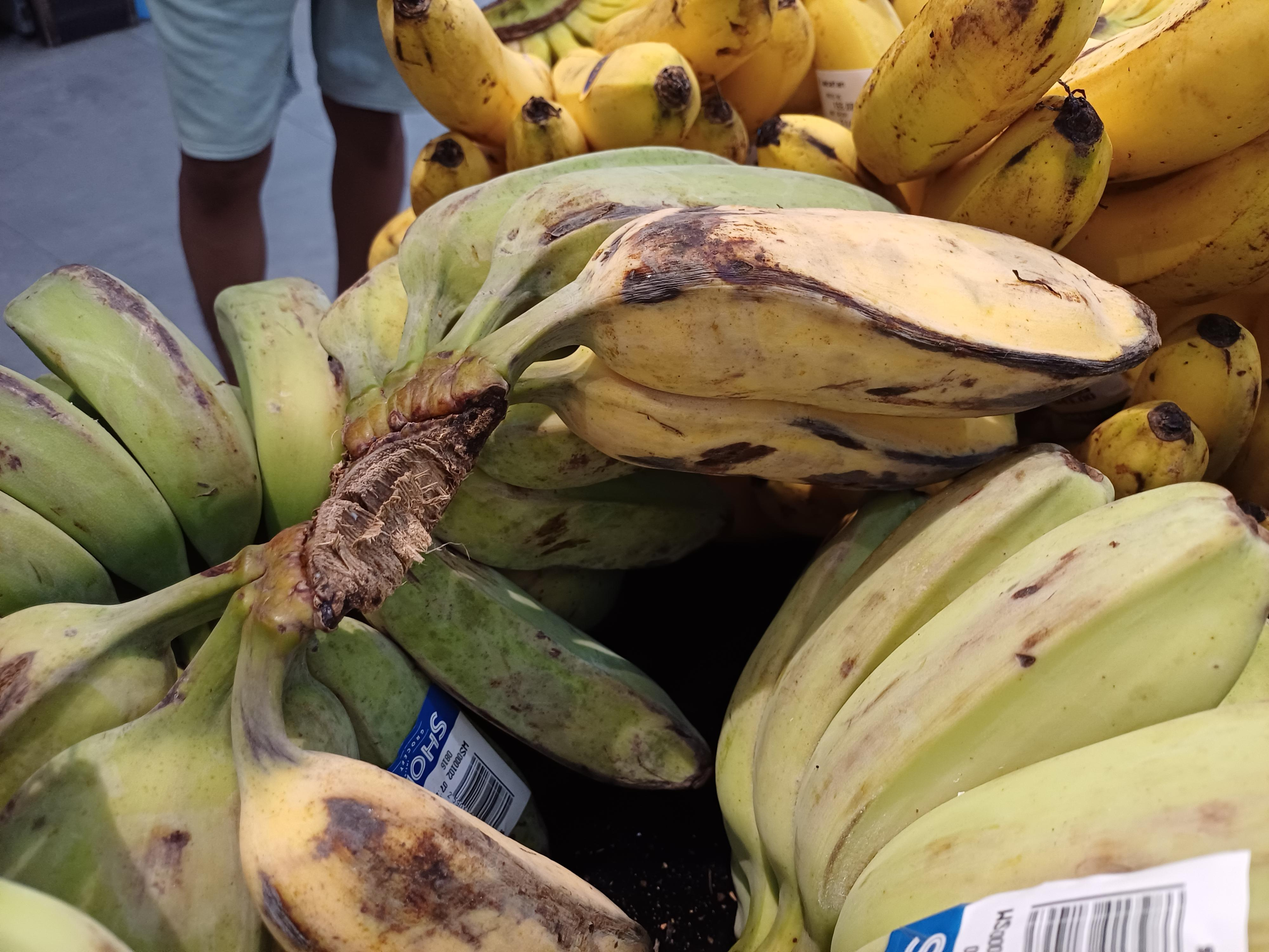underripe: (316, 144, 1160, 570), (717, 444, 1269, 949), (0, 602, 650, 952), (0, 265, 345, 616)
